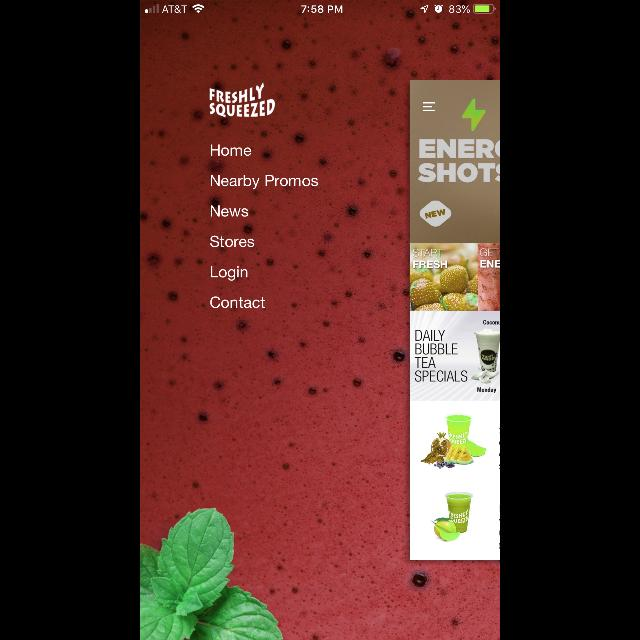backgroundimage: (140, 15, 500, 640)
icon: (423, 102, 435, 111)
image: (410, 80, 500, 560), (209, 82, 275, 118)
text: (212, 174, 318, 190), (210, 296, 266, 308), (210, 266, 248, 280), (210, 236, 254, 248), (210, 144, 252, 156), (212, 205, 248, 217)
uppertaskbar: (140, 0, 500, 14)
